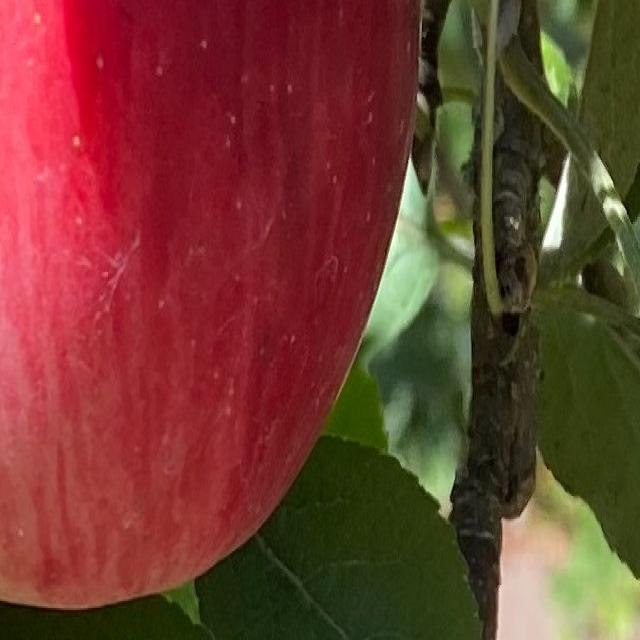100-_ripeness: (0, 0, 420, 608)
